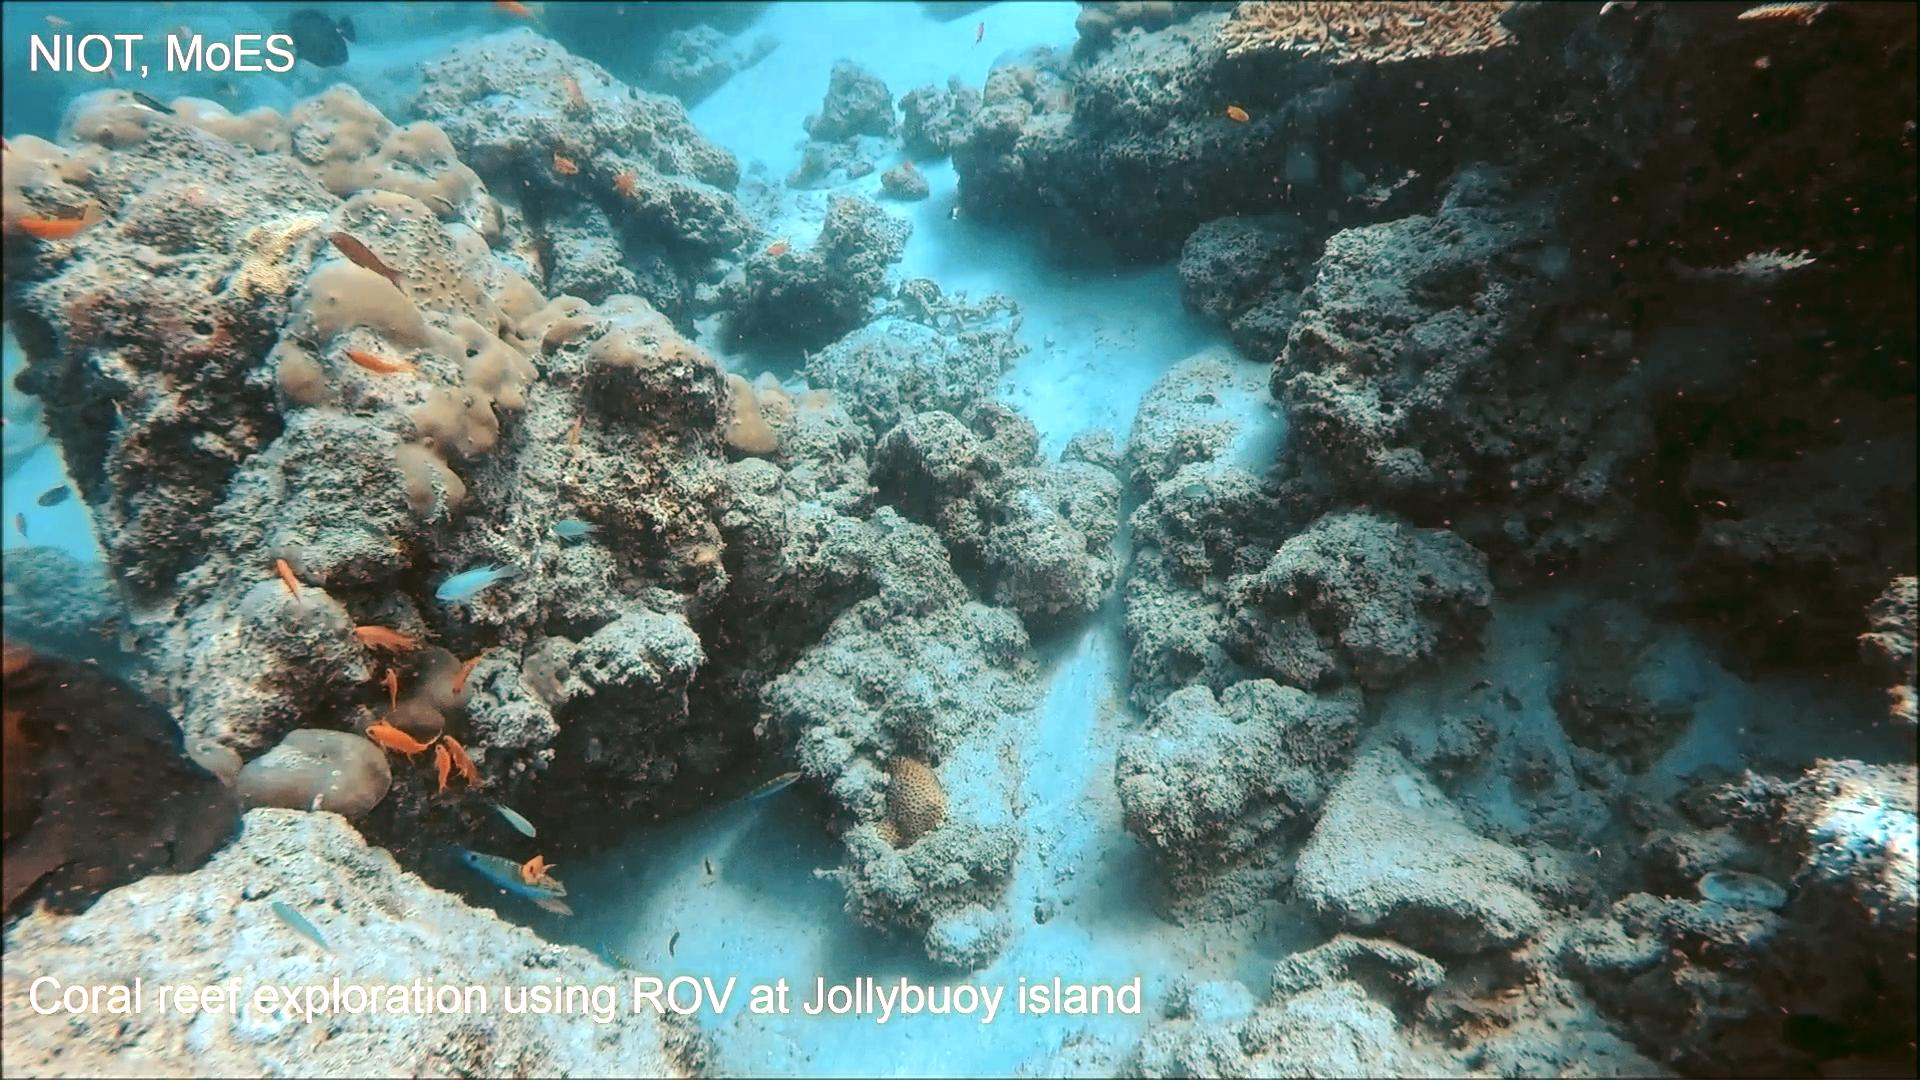Porites-Porites pukoensis: (261, 73, 605, 531)
